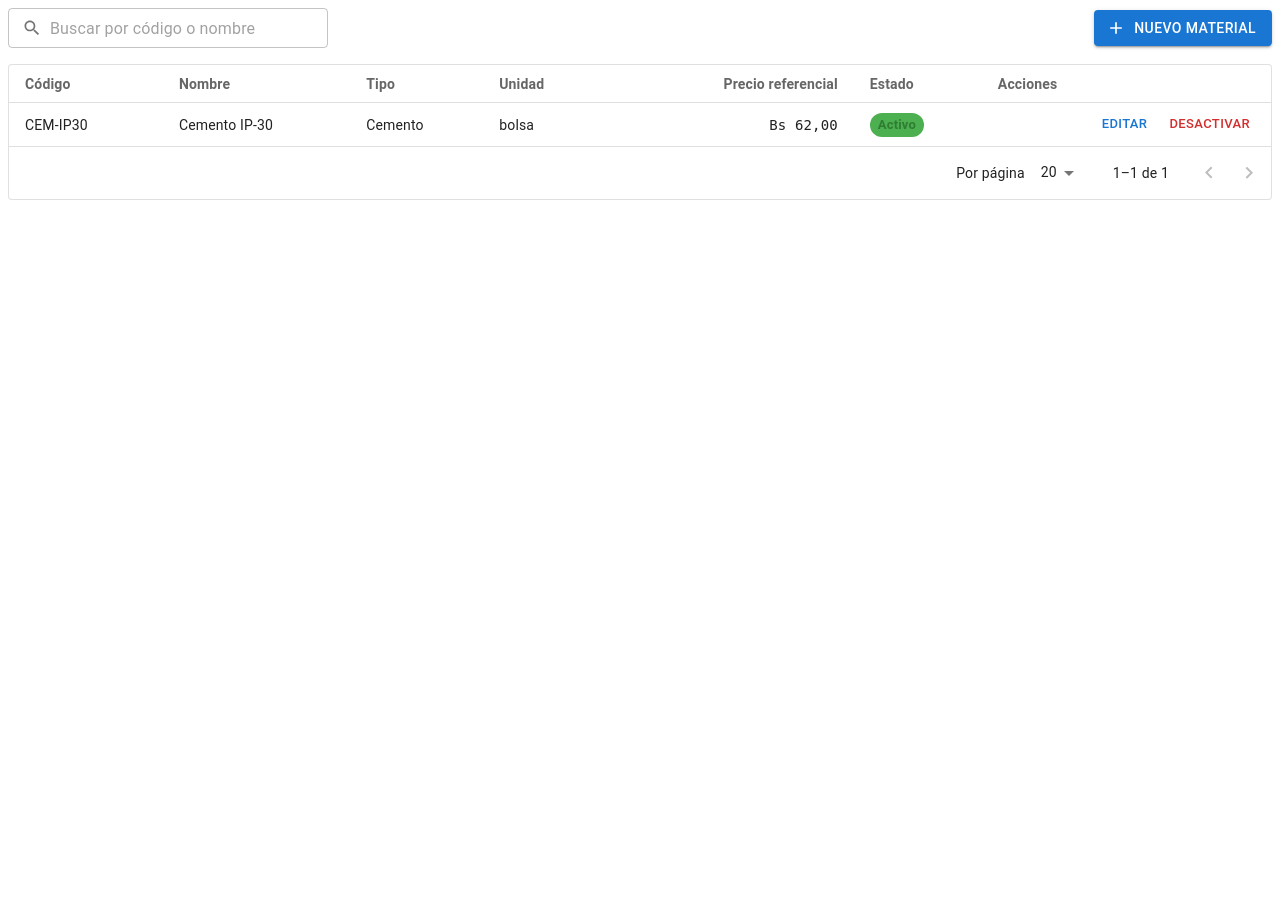
Scenario: CatalogoPagina › desactivar pide confirmación y manda el material con activo false (criterio 5)
What coordinates should you click on to do the following:
click the button "Desactivar"
I would click on:
 (1210, 125)
Its box is [1164, 109, 1255, 140].
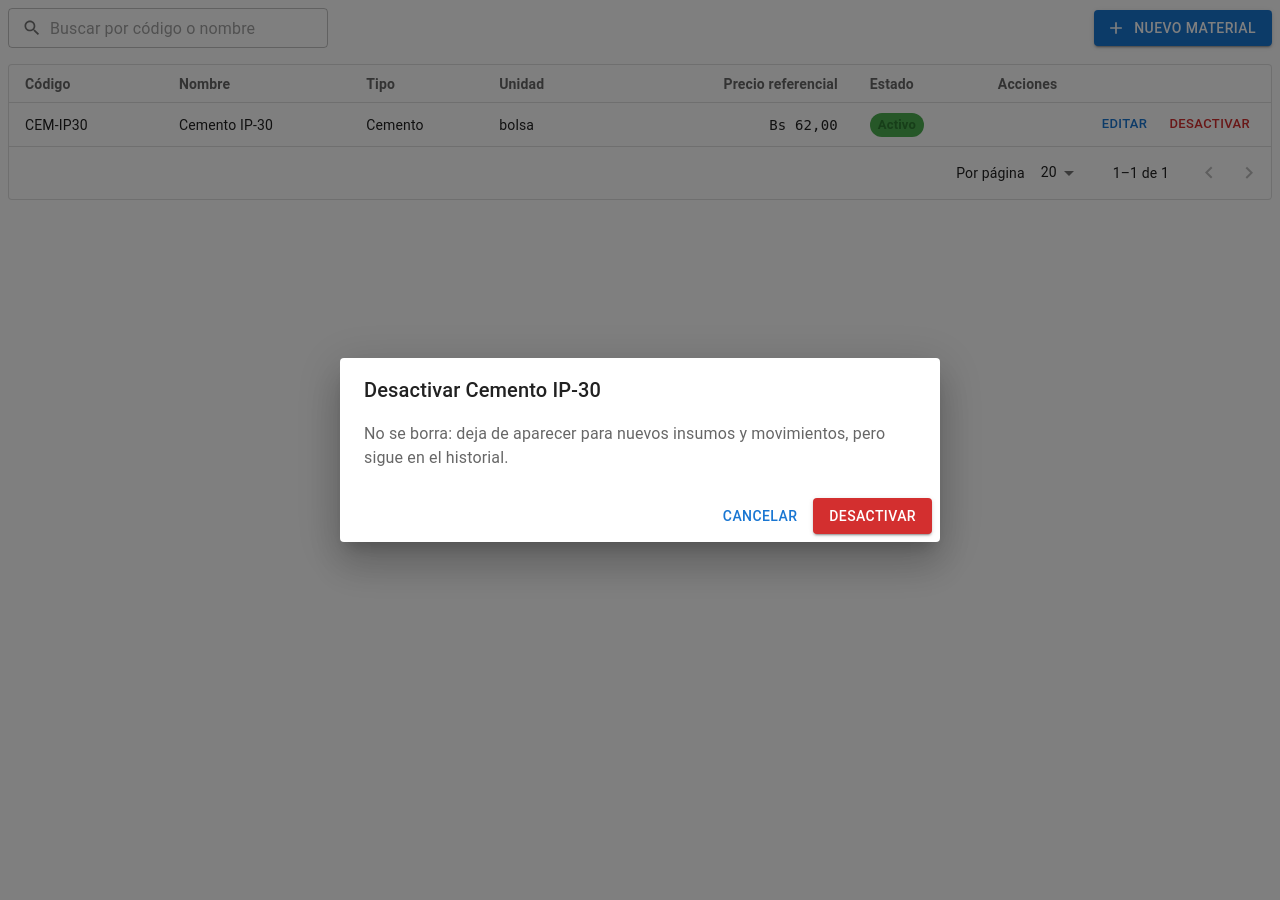
Expected: the text "sigue en el historial" is shown, [364, 424, 885, 467]
What coordinates should you click on to do the following:
click the button "Desactivar"
I would click on:
 (873, 516)
Its box is [813, 498, 932, 534].
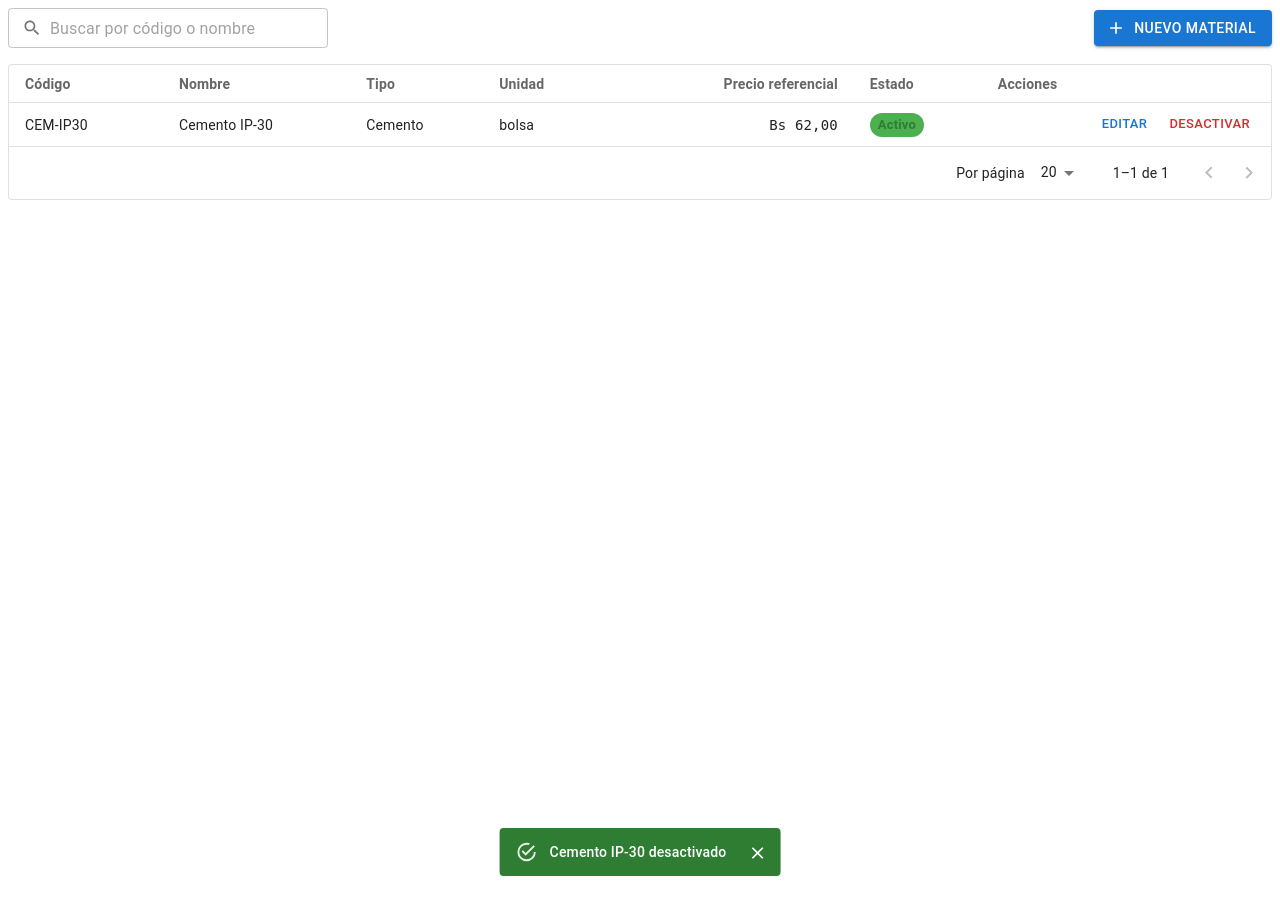
Expected: the text "Cemento IP-30 desactivado" is shown, [550, 844, 726, 860]
